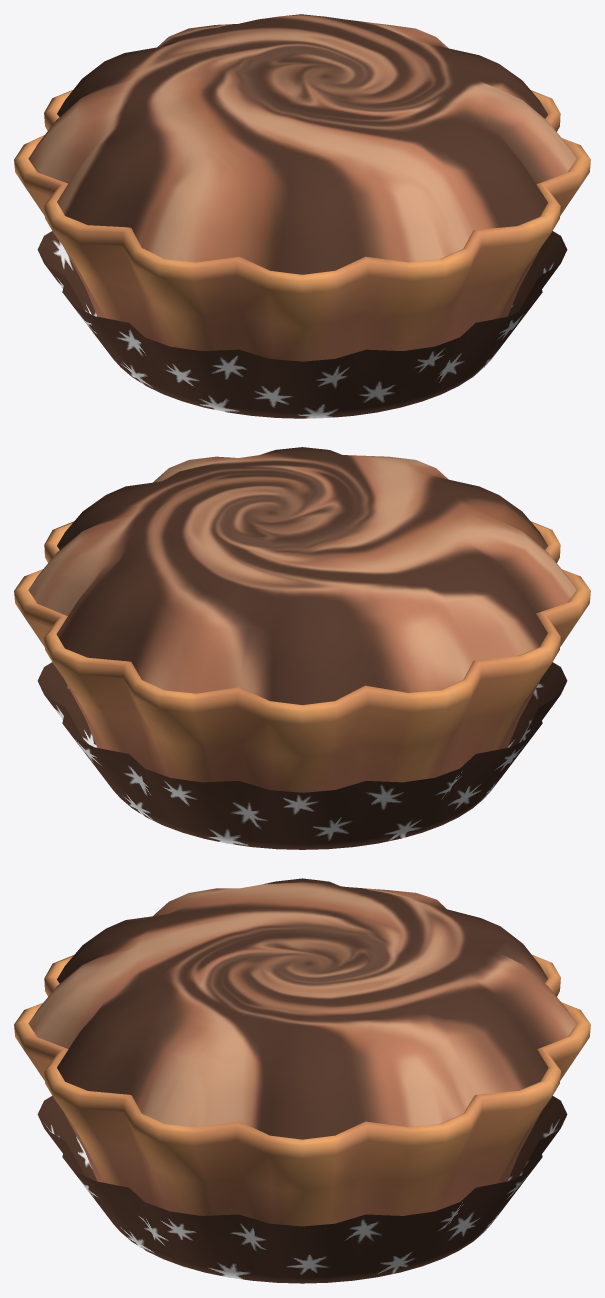
The model's file is cupcake_cream_3.fbx.
3 renders of one model, top to bottom at view 1: azimuth 30°, elevation 25°; view 2: azimuth 150°, elevation 25°; view 3: azimuth 270°, elevation 25°, orthographic.
Visible parts, largest first — view 1: cake_basket_mus_chocolate; view 2: cake_basket_mus_chocolate; view 3: cake_basket_mus_chocolate.
Part boxes in pixels (x1,y1,x2,y2): cake_basket_mus_chocolate: (14, 14, 590, 418); cake_basket_mus_chocolate: (14, 447, 590, 849); cake_basket_mus_chocolate: (14, 878, 590, 1283).
Size of the model in its own units: 11.97 by 5.75 by 11.96.
